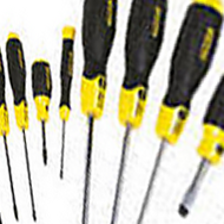screwdriver: (52, 21, 76, 180)
